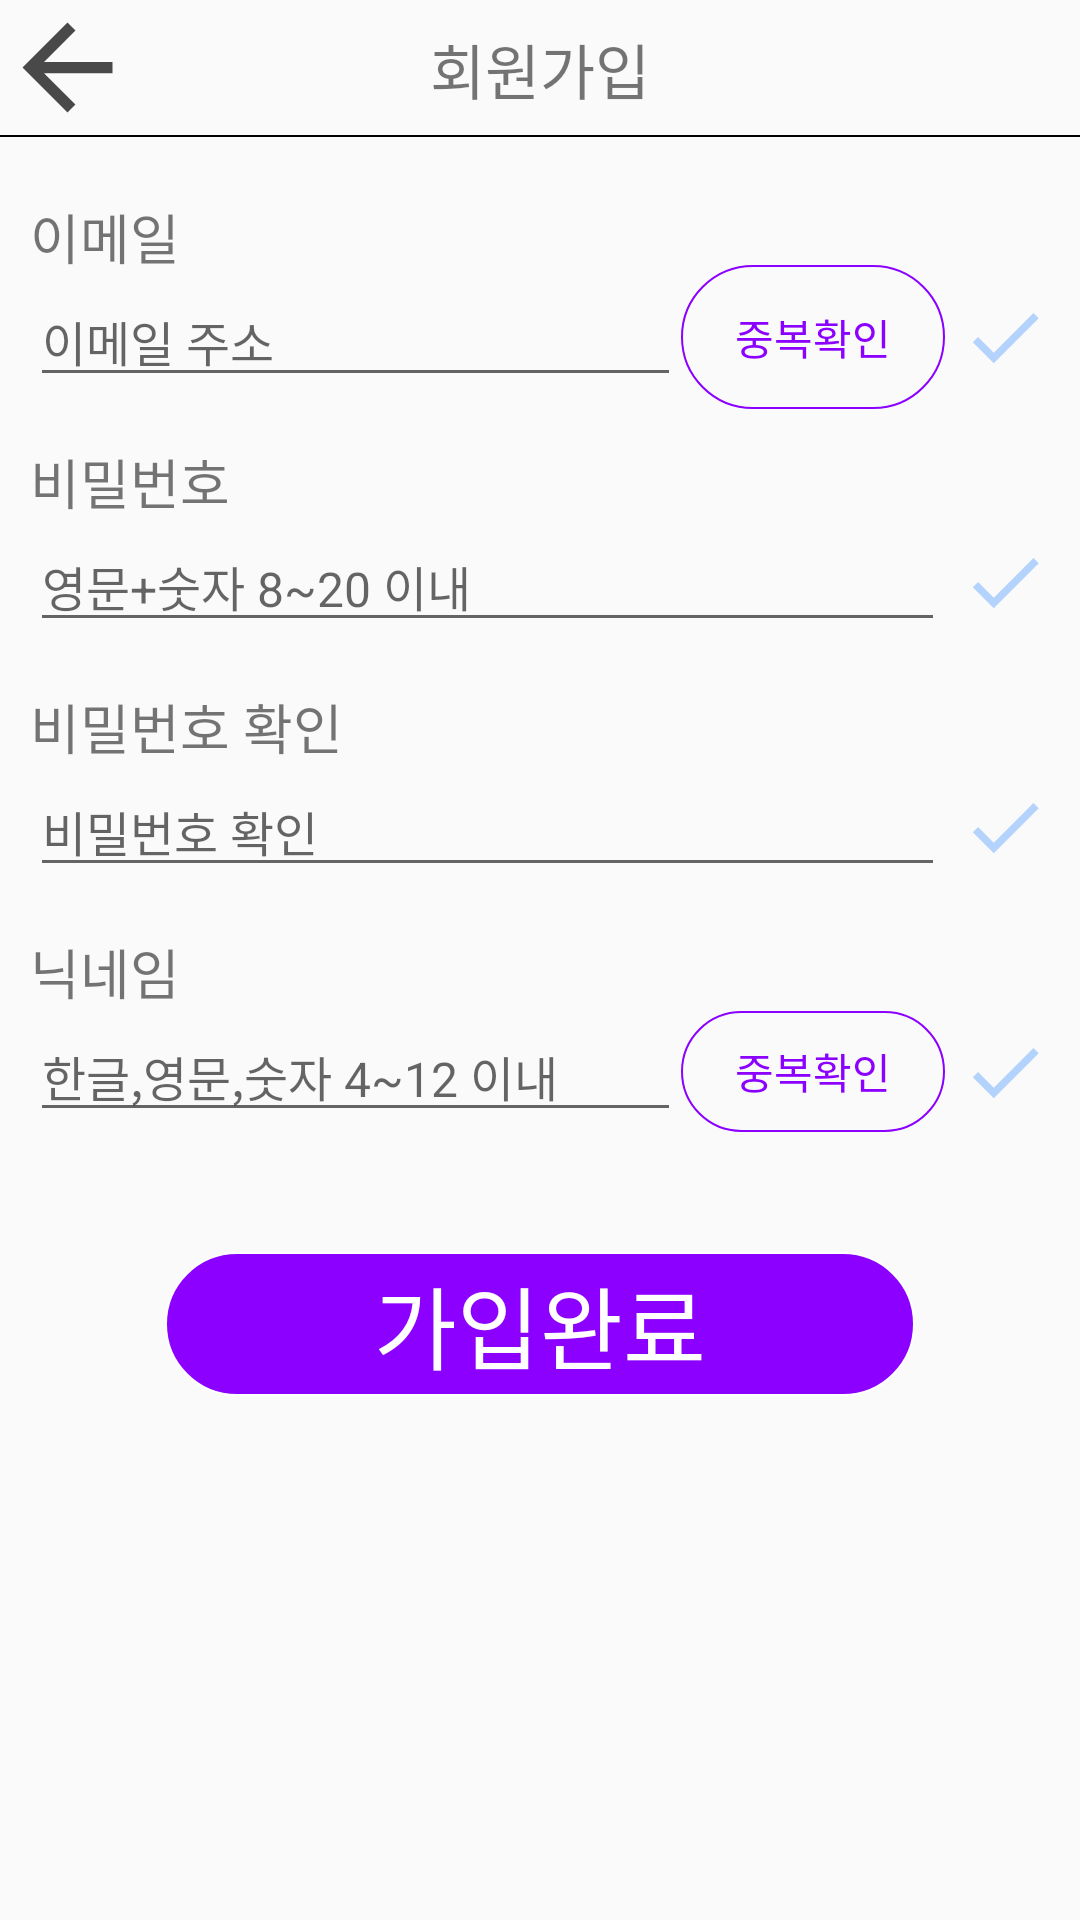

Screen size 1080 × 1920. Icon name, then its box in pixels as (x1=x1, y1=y1, x2=x2, y2=y2):
arrow back: (x1=22, y1=22, x2=113, y2=113)
check: (x1=973, y1=313, x2=1039, y2=363), (x1=973, y1=558, x2=1039, y2=608), (x1=973, y1=803, x2=1039, y2=853), (x1=973, y1=1048, x2=1039, y2=1098)
